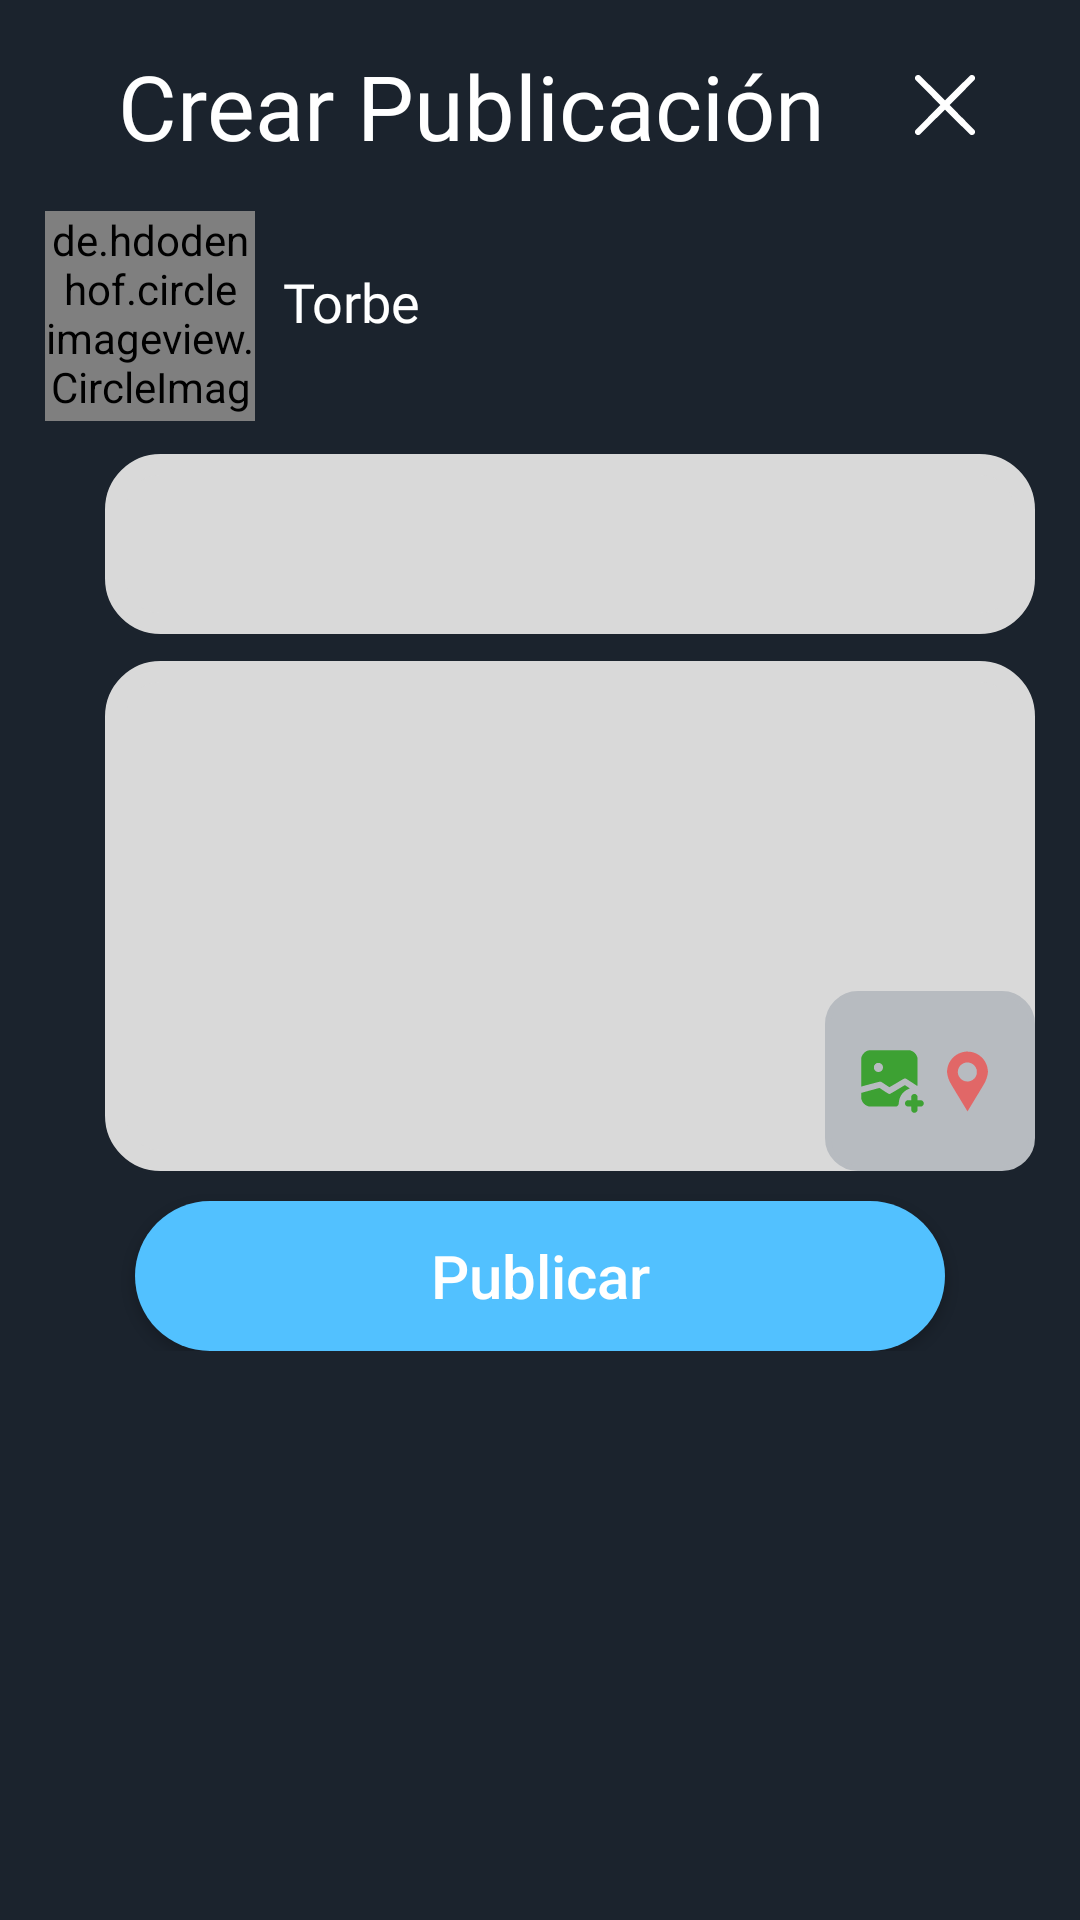

Icon click points for this 1080px×1920px phone screenshot, format point (x, y):
close: point (945, 105)
map: point (967, 1081)
